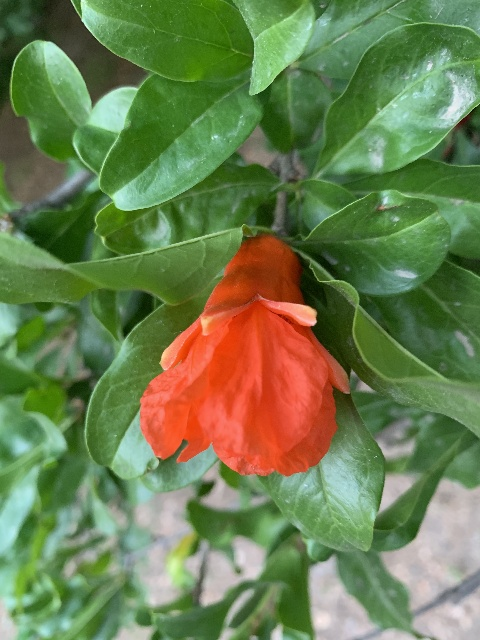flower: (140, 233, 350, 479)
